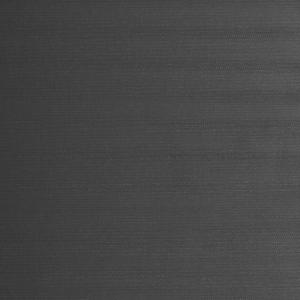Wrinkle: (150, 56, 300, 215), (31, 22, 300, 50)
